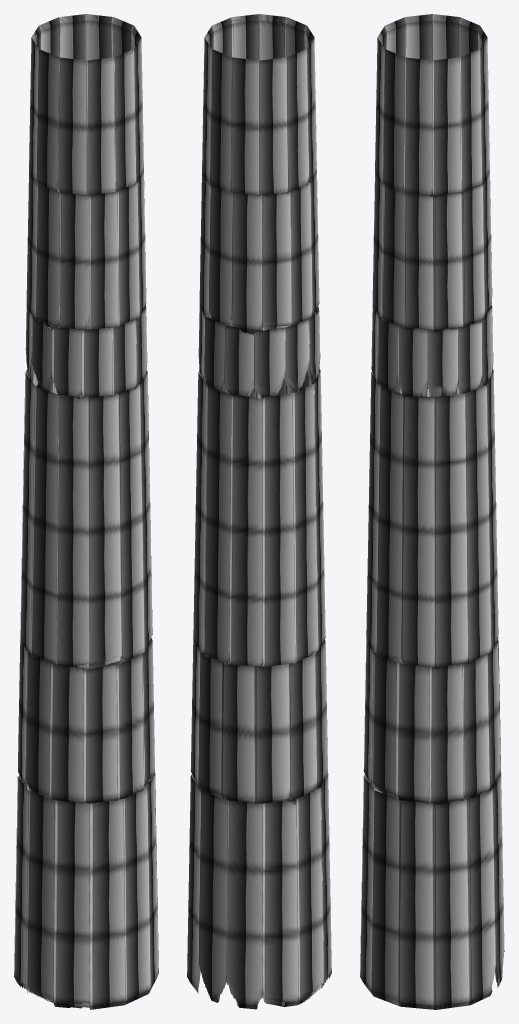
File: Tunnel1.fbx
3 renders of one model, left to right at view 1: azimuth 30°, elevation 25°; view 2: azimuth 150°, elevation 25°; view 3: azimuth 270°, elevation 25°, orthographic.
Visible parts, largest first — view 1: tunnel4, tunnel 2, tunnel7, tunnel3, tunnel6, tunnel5; view 2: tunnel4, tunnel 2, tunnel7, tunnel3, tunnel6, tunnel5; view 3: tunnel4, tunnel 2, tunnel7, tunnel3, tunnel6, tunnel5.
Part boxes in pixels (x1,y1,x2,y2): tunnel4: (20,369,152,669); tunnel 2: (14,773,158,1009); tunnel7: (29,14,143,196); tunnel3: (18,637,154,803); tunnel6: (26,170,146,331); tunnel5: (25,305,147,399); tunnel4: (193,369,325,668); tunnel 2: (187,774,331,1009); tunnel7: (202,14,316,196); tunnel3: (190,640,328,803); tunnel6: (199,170,319,333); tunnel5: (198,306,320,398); tunnel4: (366,370,498,669); tunnel 2: (360,773,504,1009); tunnel7: (375,14,489,196); tunnel3: (363,638,500,805); tunnel6: (372,171,492,332); tunnel5: (371,305,493,397).
Bounding box in the file's own units: 381 × 2734 × 381.
Materials: 7 (7 with a texture image).
